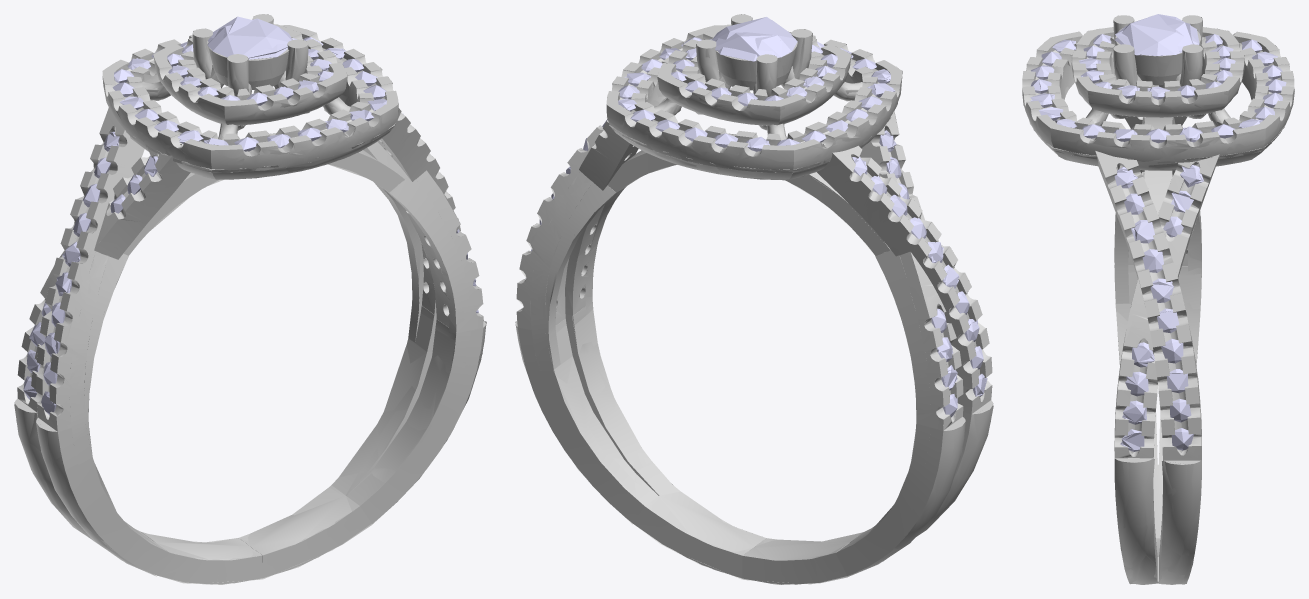
Rendered from DLR-D000646310.glb.
3 renders of one model, left to right at view 1: azimuth 30°, elevation 25°; view 2: azimuth 150°, elevation 25°; view 3: azimuth 270°, elevation 25°, orthographic.
Parts seen in each view (by area): view 1: highPolyMesh, lowPolyMesh; view 2: highPolyMesh, lowPolyMesh; view 3: highPolyMesh, lowPolyMesh.
Part boxes in pixels (left/top/right/bottom): highPolyMesh: left=14, top=14, right=486, bottom=581; lowPolyMesh: left=14, top=14, right=486, bottom=584; highPolyMesh: left=515, top=14, right=993, bottom=584; lowPolyMesh: left=515, top=14, right=993, bottom=584; highPolyMesh: left=1022, top=14, right=1294, bottom=584; lowPolyMesh: left=1022, top=14, right=1294, bottom=584.
Size of the model in its own units: 0.0205 by 0.0239 by 0.0109.
